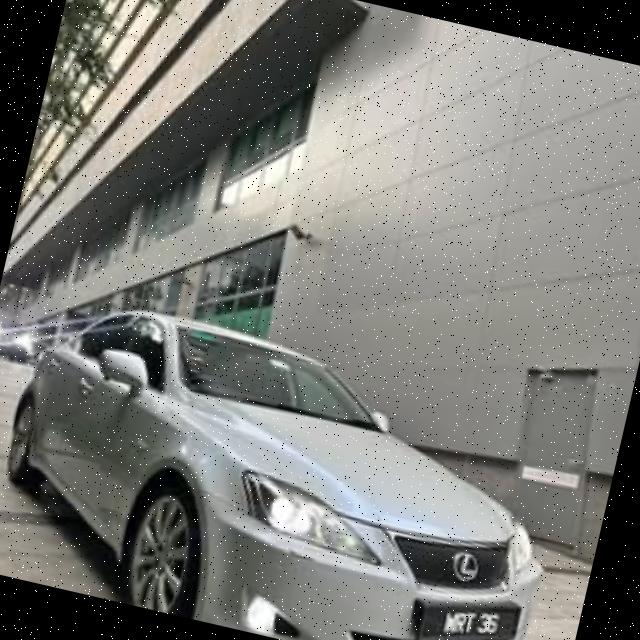License_Plate: (414, 583, 523, 640)
car: (1, 284, 580, 640)
